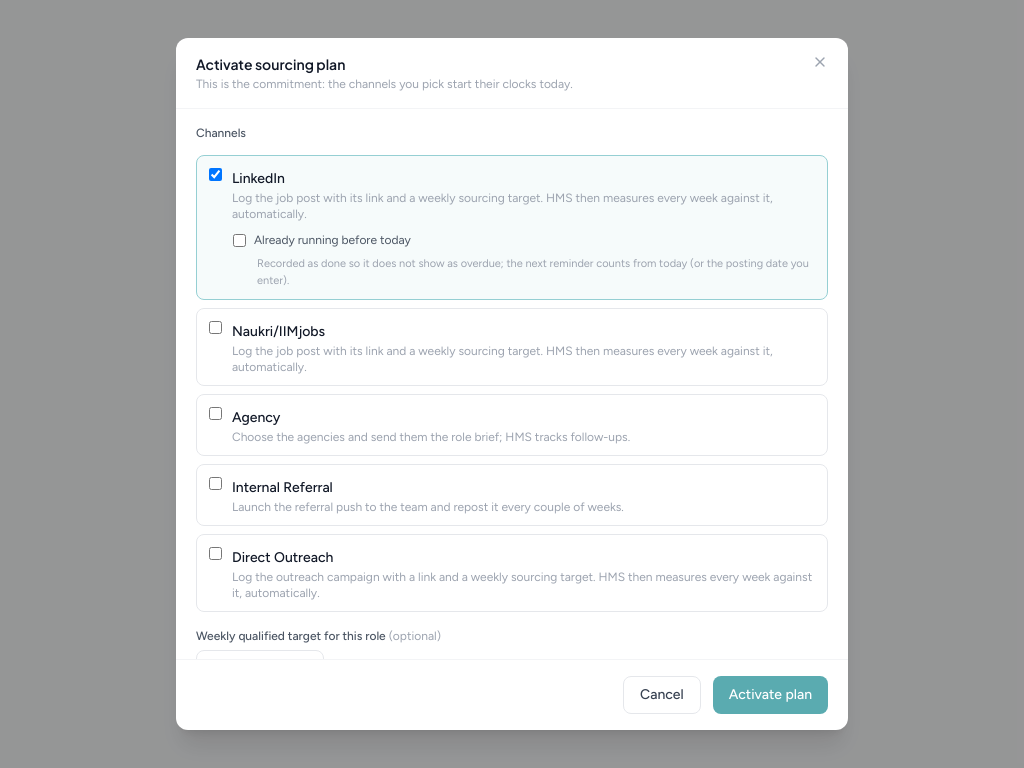
Test: ActivatePlanModal › an already-running channel that is tracked (LinkedIn, Naukri/IIMjobs, Direct Outreach) › needs the post link AND a whole-number weekly sourcing target: the button stays disabled, with the reason as its title and a status line
Expected: the button "Activate plan" is enabled, [713, 676, 828, 714]
Click the checkbox labelled "Already running before today".
click(240, 240)  # box [233, 234, 246, 247]
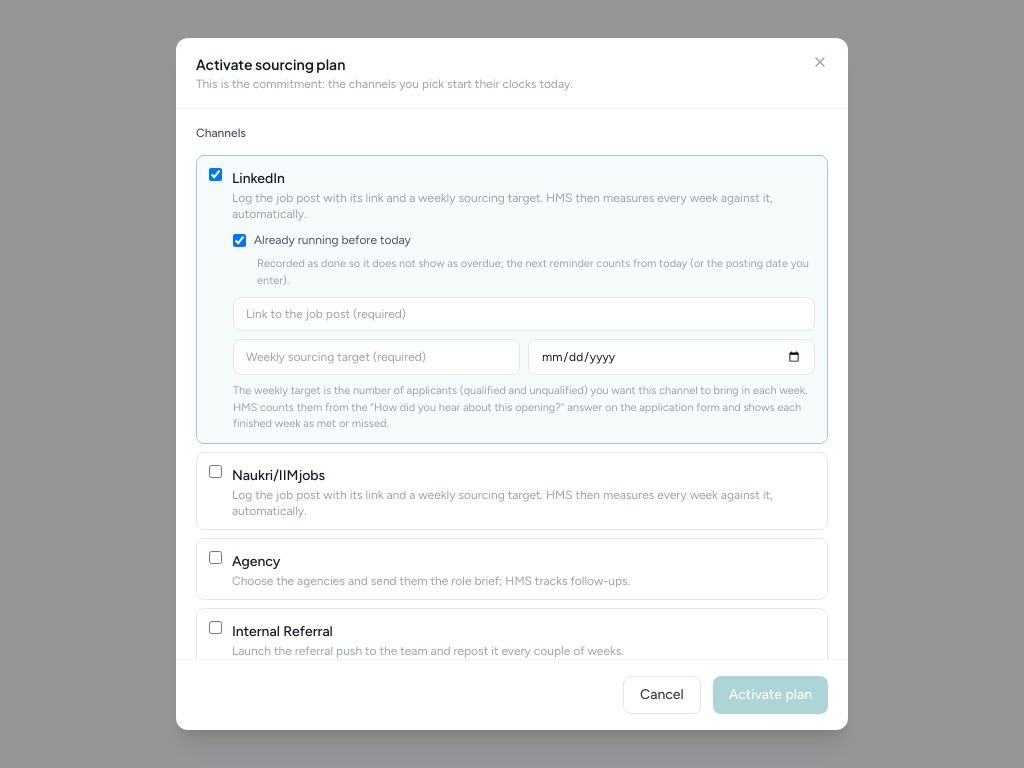
Expected: the button "Activate plan" is disabled, [713, 676, 828, 714]
Type "https://linkedin.com/jobs/1" into the field named "LinkedIn post link".
click(524, 314); type("https://linkedin.com/jobs/1")  # box [233, 297, 815, 331]
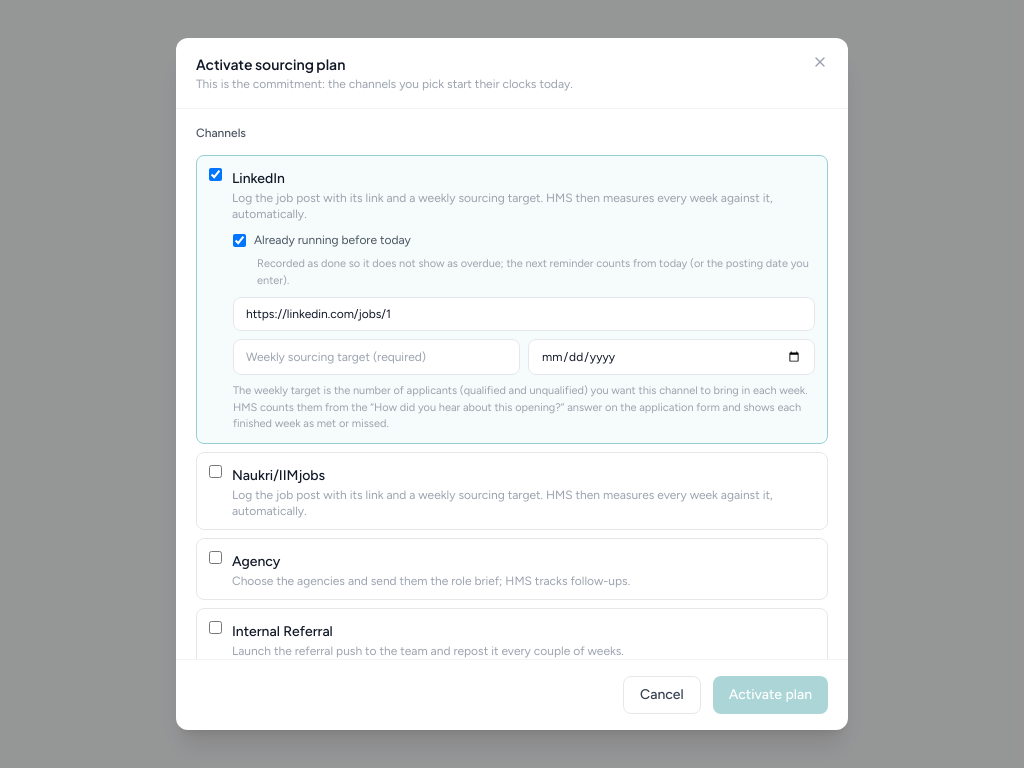
Expected: the button "Activate plan" is disabled, [713, 676, 828, 714]
Type "20" into the number field named "LinkedIn weekly sourcing target".
click(376, 357); type("20")  # box [233, 339, 520, 375]
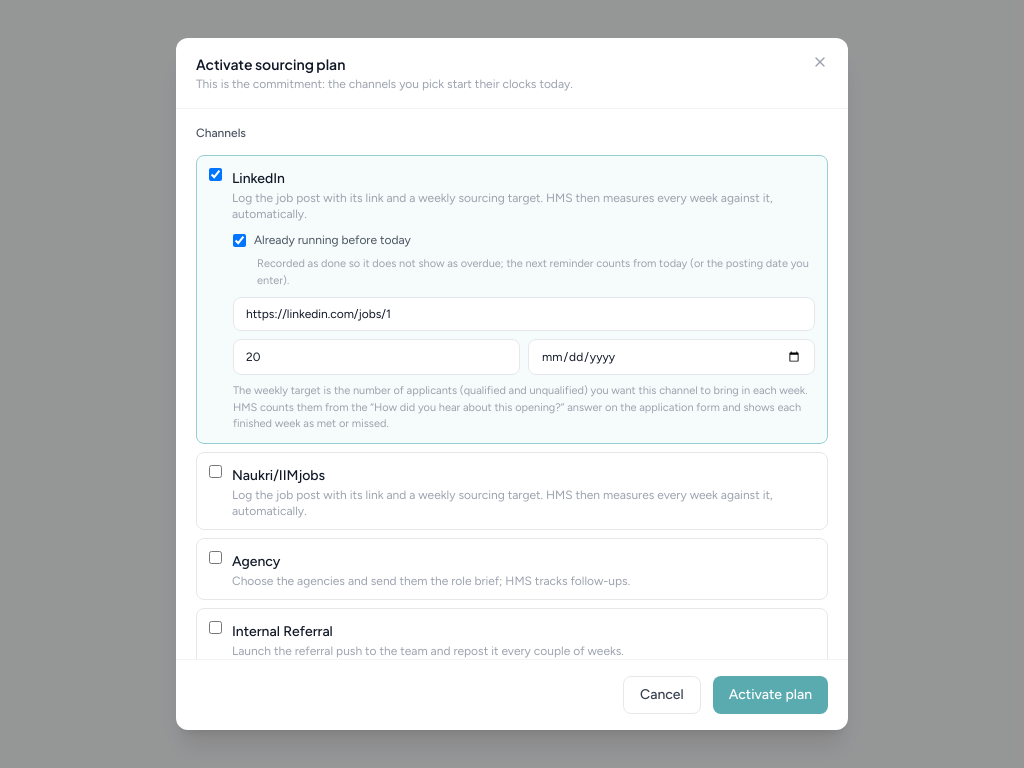
Expected: the button "Activate plan" is enabled, [713, 676, 828, 714]
